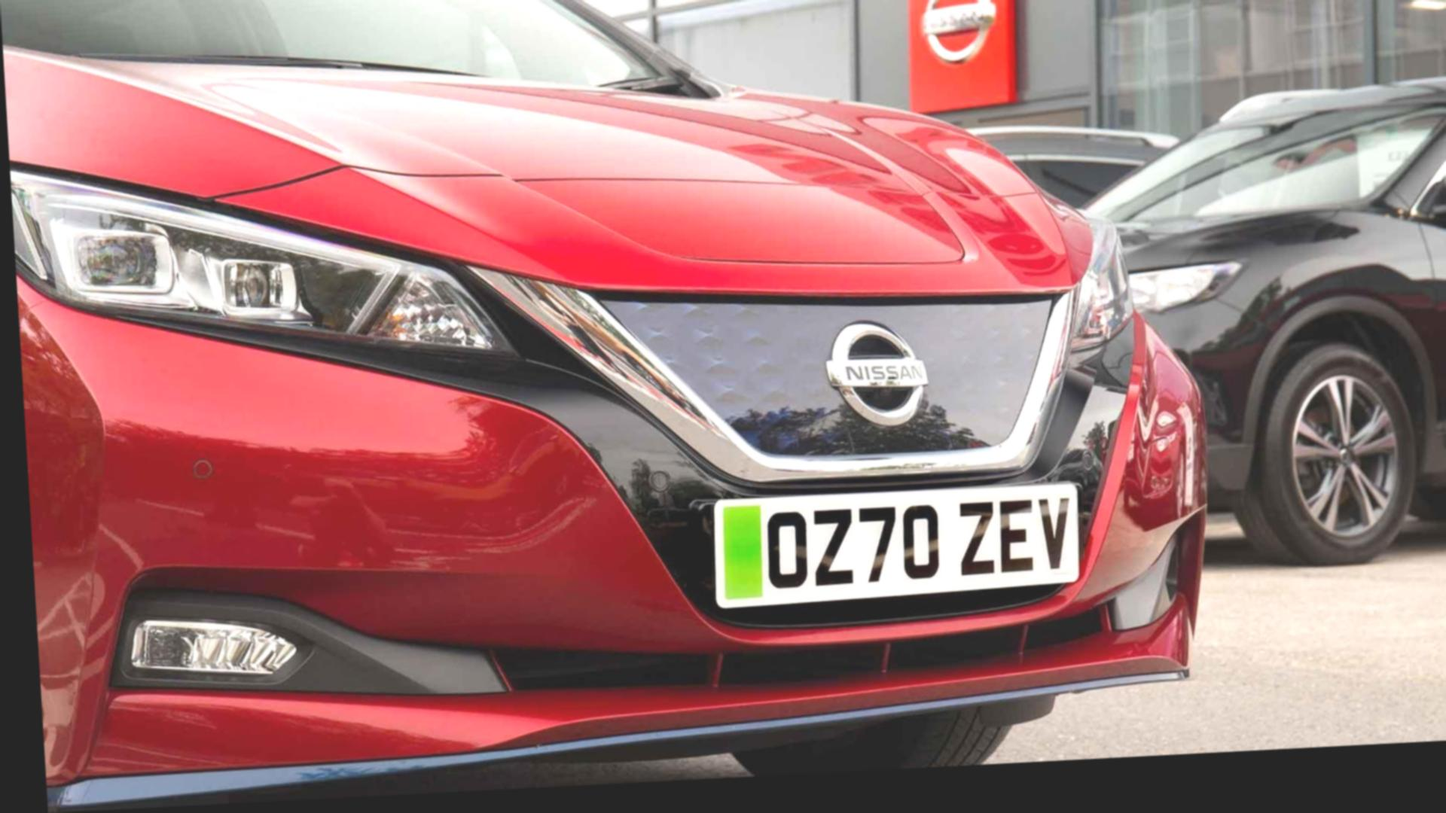License_Plate: (704, 470, 1095, 620)
